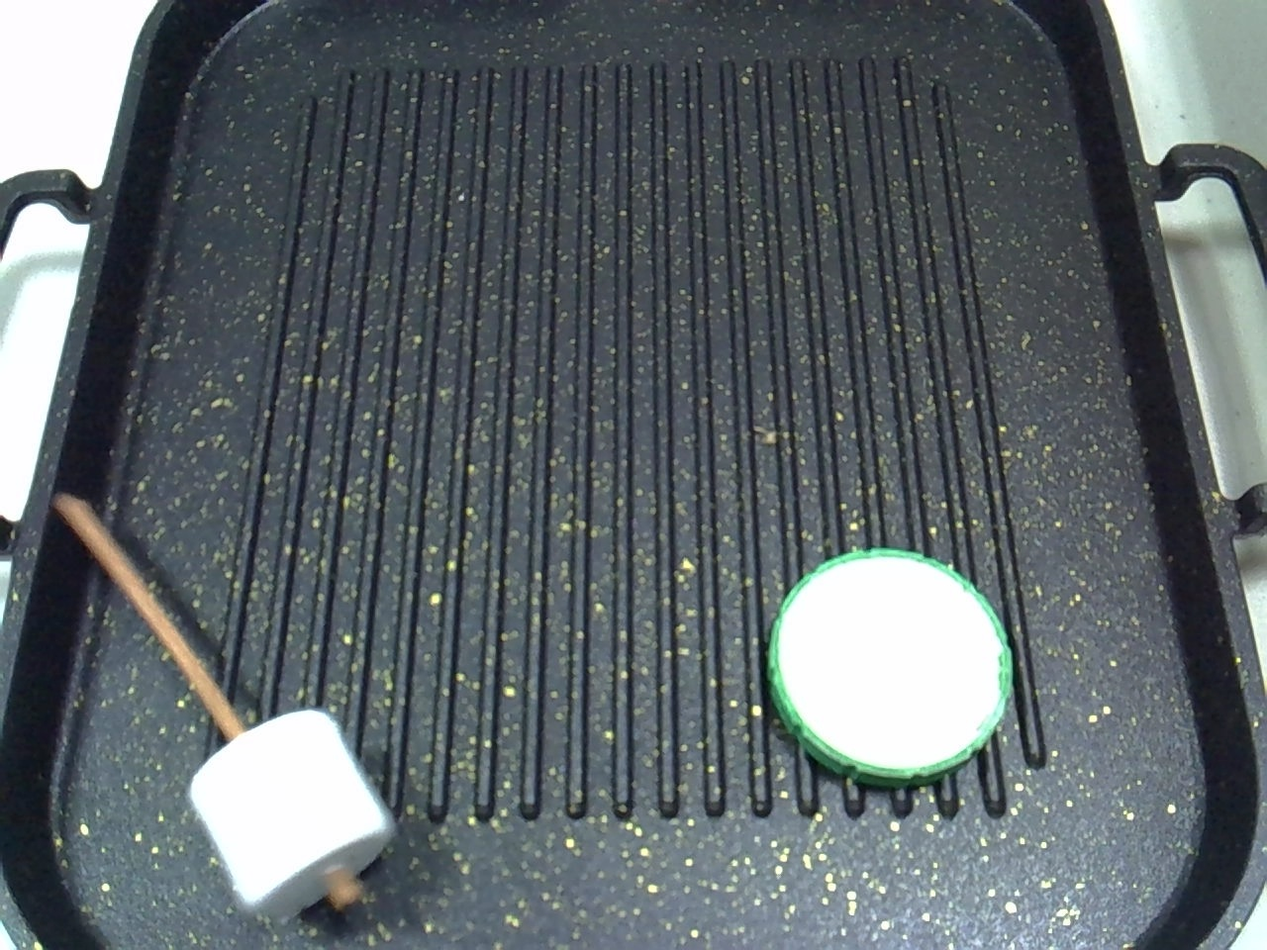MA1 0: (17, 457, 414, 925)
Z1 0: (750, 533, 1024, 797)
